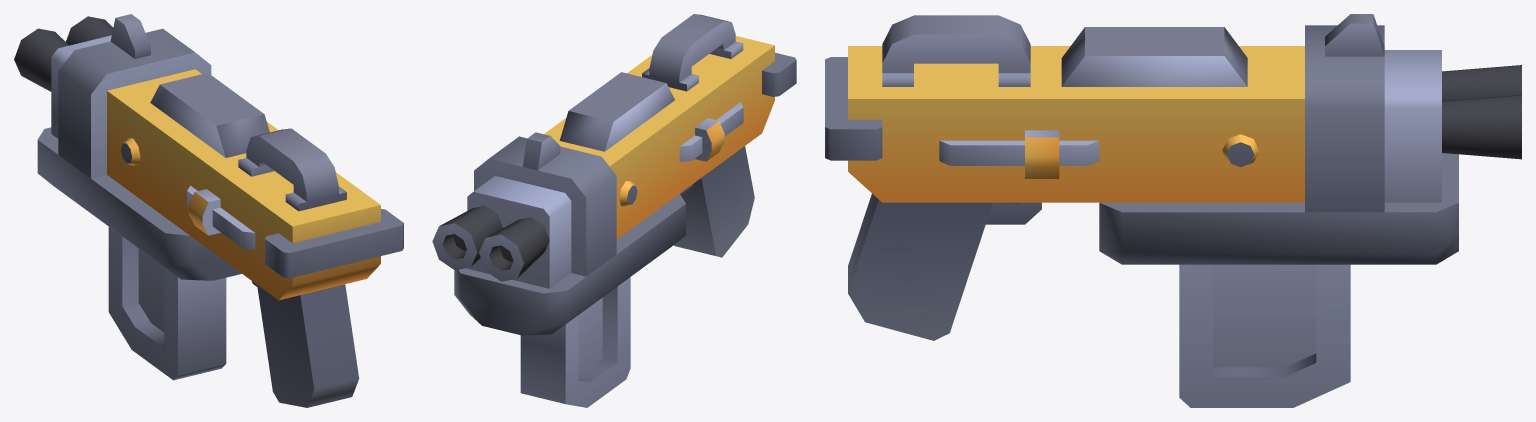
Rendered from blaster-j.glb.
The picture shows the model from 3 angles, left to right: view 1: azimuth 30°, elevation 25°; view 2: azimuth 150°, elevation 25°; view 3: azimuth 270°, elevation 25°; orthographic projection. The views are drawn at different scales.
Visible parts, largest first — view 1: blaster-j, magazine; view 2: blaster-j, magazine; view 3: blaster-j, magazine.
Part boxes in pixels (bbox=[...]): blaster-j: bbox=[14, 14, 403, 407]; magazine: bbox=[108, 227, 226, 380]; blaster-j: bbox=[432, 14, 796, 335]; magazine: bbox=[520, 277, 630, 407]; blaster-j: bbox=[825, 14, 1521, 340]; magazine: bbox=[1179, 264, 1350, 407].
Bounding box in the file's own units: 0.155 × 0.3619 × 0.61.
1 material, 1 textured.
